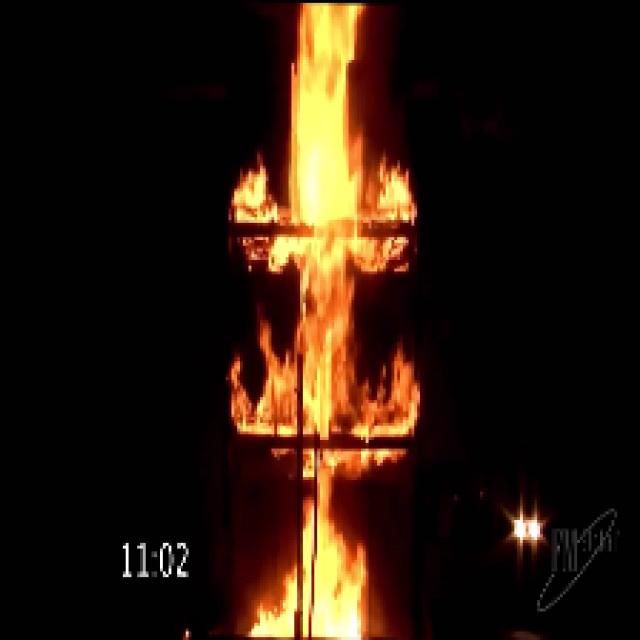fire: (261, 15, 370, 637)
